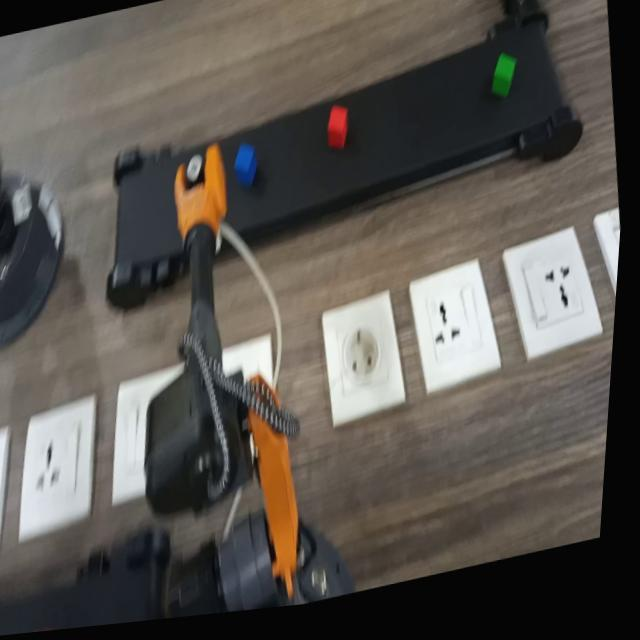cube: (486, 48, 533, 113), (230, 137, 274, 200), (322, 101, 359, 161), (29, 620, 77, 635)
